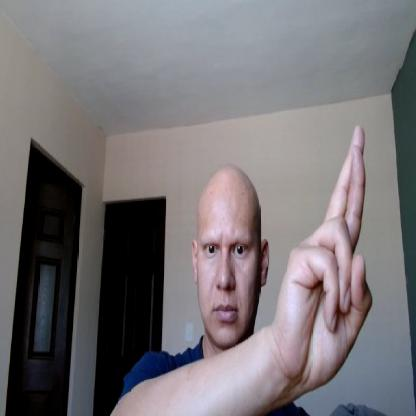R: (278, 125, 375, 379)
